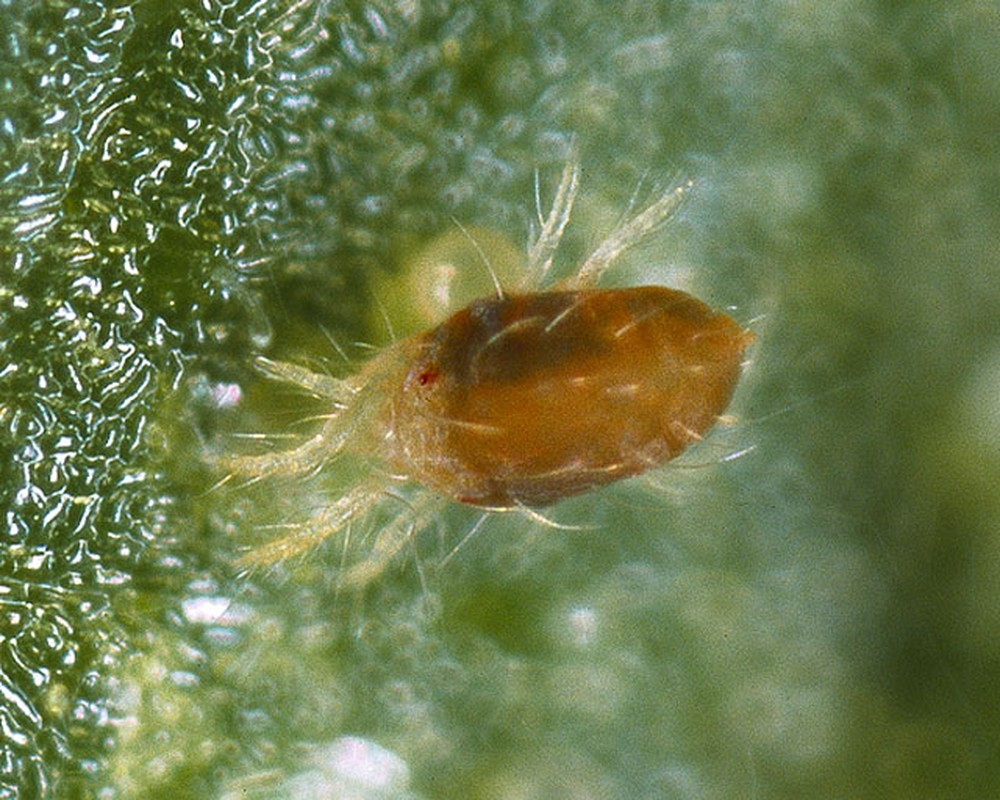Aracnido Rojo: (194, 170, 801, 595)
